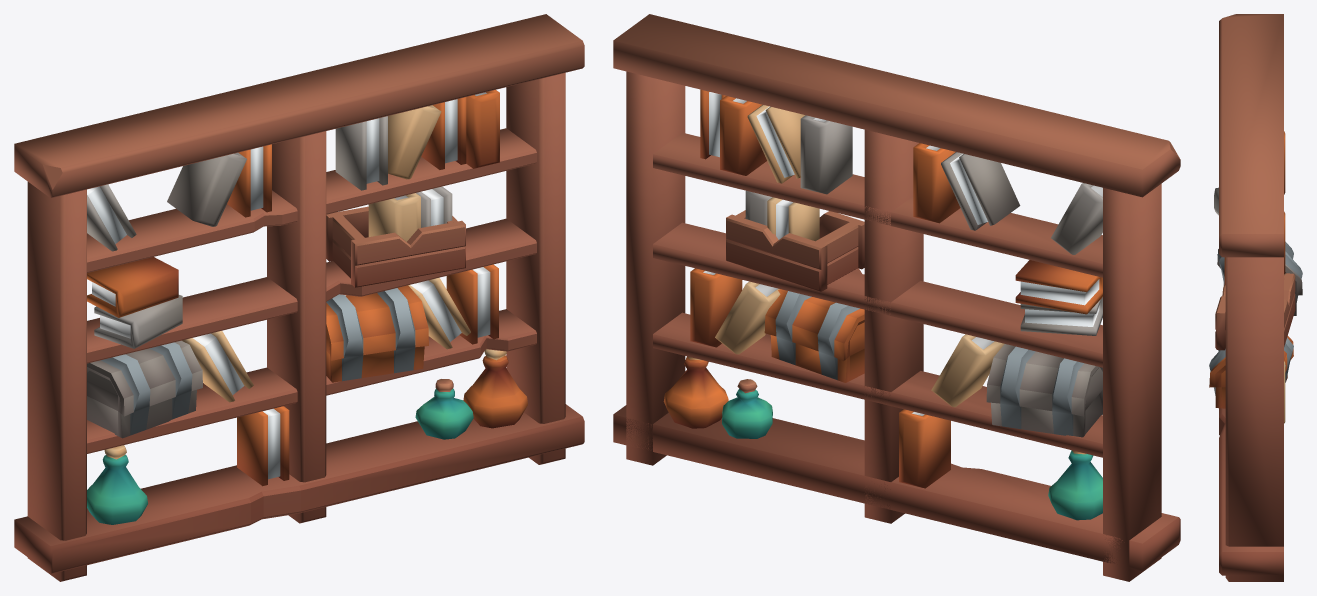
The model's file is bookshelf-optimized.glb.
The picture shows the model from 3 angles, left to right: view 1: azimuth 30°, elevation 25°; view 2: azimuth 150°, elevation 25°; view 3: azimuth 270°, elevation 25°; orthographic projection. The views are drawn at different scales.
Parts seen in each view (by area): view 1: bookcase_double_decoratedB; view 2: bookcase_double_decoratedB; view 3: bookcase_double_decoratedB.
Part boxes in pixels (x1,y1,x2,y2): bookcase_double_decoratedB: [14, 14, 584, 581]; bookcase_double_decoratedB: [613, 14, 1180, 581]; bookcase_double_decoratedB: [1209, 14, 1302, 581].
Bounding box in the file's own units: 4 × 3 × 0.721.
Materials: 1 (1 with a texture image).
